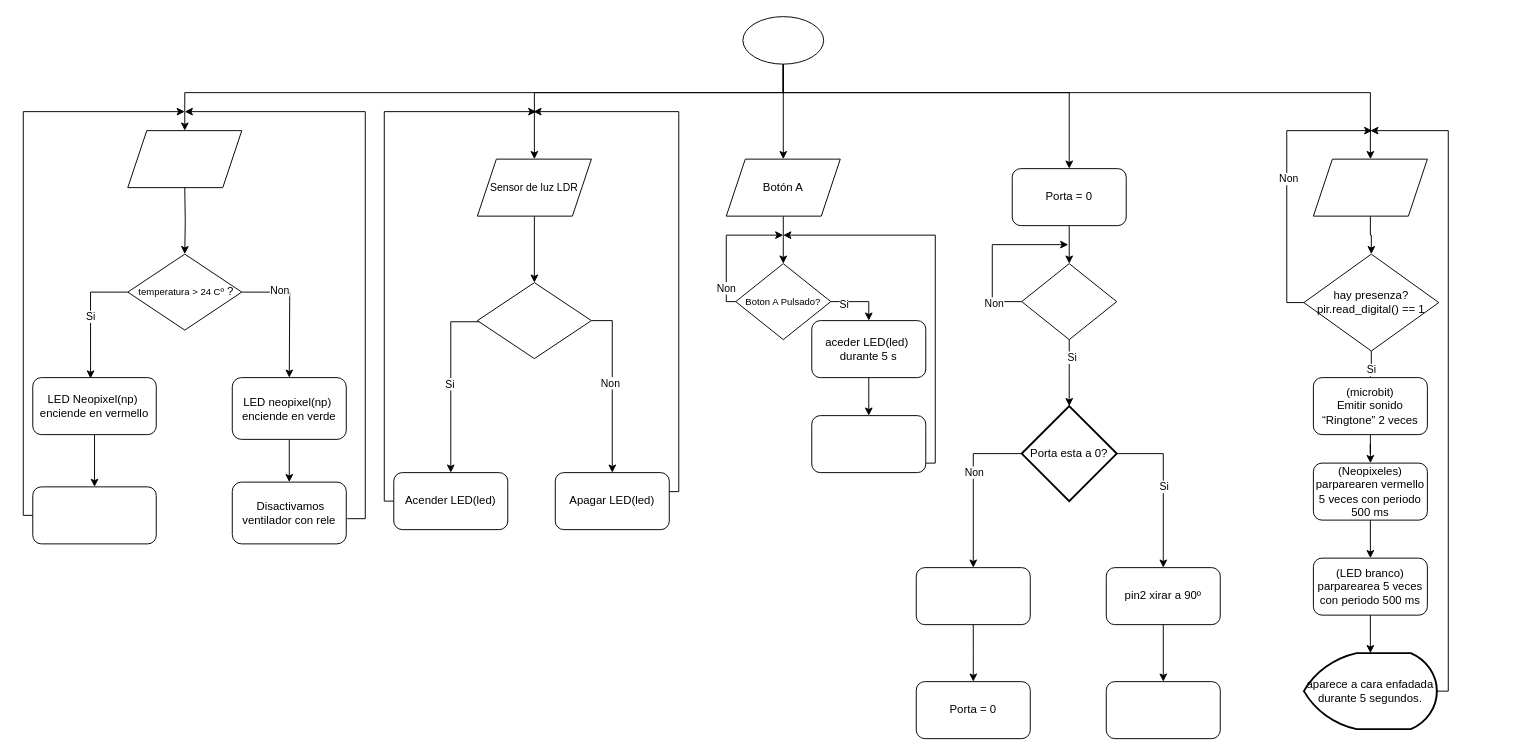
This 1530x755 diagram has some shape labels left out. The centre of each missing label's shape, as x and y in pixels:
"Boton B Pulsado?" belongs at pixel 1069 301.
"Emite son RINGTONE" belongs at pixel 868 444.
"Inicio" belongs at pixel 783 40.
"LEDs Neopixel" belongs at pixel 184 159.
"Luz < 700?" belongs at pixel 533 320.
"pin2 xirar a 0º" belongs at pixel 972 596.
"Porta = 1" belongs at pixel 1162 710.
"Relé activa ventilador" belongs at pixel 94 515.
"Sensor PIR" belongs at pixel 1369 187.
